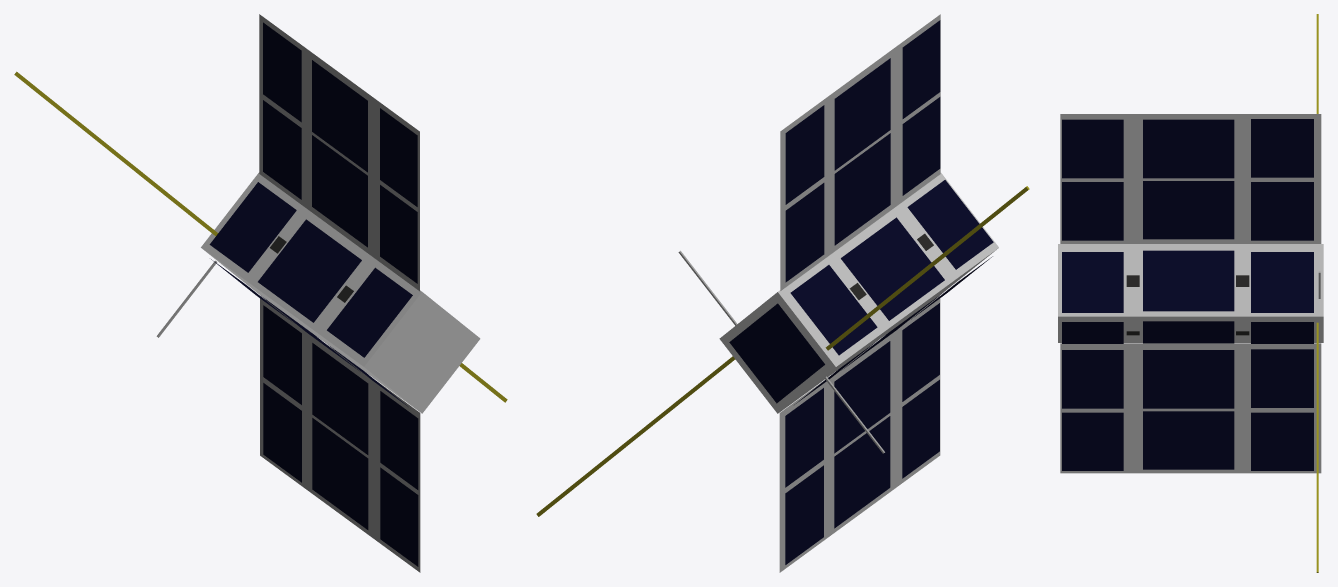
File: lemur1_low.gltf
3 views of the same model, side by side, from view 1: azimuth 30°, elevation 25°; view 2: azimuth 150°, elevation 25°; view 3: azimuth 270°, elevation 25° (orthographic). The views are drawn at different scales.
Parts seen in each view (by area): view 1: Cube, Plane.064, Plane.069, ReducedSolarCell.035, ReducedSolarCell.022, ReducedSolarCell.023, ReducedSolarCell.028, ReducedSolarCell.029, ReducedSolarCell.033, ReducedSolarCell.034, ReducedSolarCell.025, ReducedSolarCell.019 (+7 smaller); view 2: Cube, Plane.064, Plane.069, ReducedSolarCell.035, ReducedSolarCell.036, ReducedSolarCell.028, ReducedSolarCell.029, ReducedSolarCell.022, ReducedSolarCell.023, ReducedSolarCell.033, ReducedSolarCell.034, ReducedSolarCell.025 (+9 smaller); view 3: Plane.141, Plane.142, Cube, ReducedSolarCell.014, ReducedSolarCell.004, ReducedSolarCell.010, ReducedSolarCell.011, ReducedSolarCell.005, ReducedSolarCell.012, ReducedSolarCell.013, ReducedSolarCell.003, ReducedSolarCell (+10 smaller).
Part boxes in pixels (x1,y1,x2,y2): Cube: (201,172,480,413); Plane.064: (259,14,419,291); Plane.069: (260,296,420,572); ReducedSolarCell.035: (258,219,361,322); ReducedSolarCell.022: (312,418,368,529); ReducedSolarCell.023: (312,343,368,454); ReducedSolarCell.028: (312,135,367,247); ReducedSolarCell.029: (312,60,367,172); ReducedSolarCell.033: (209,182,296,272); ReducedSolarCell.034: (327,267,412,357); ReducedSolarCell.025: (263,22,301,122); ReducedSolarCell.019: (263,305,301,404); Cube: (719,173,998,413); Plane.064: (780,14,940,290); Plane.069: (779,296,940,572); ReducedSolarCell.035: (841,217,944,320); ReducedSolarCell.036: (729,303,824,403); ReducedSolarCell.028: (834,133,890,245); ReducedSolarCell.029: (834,58,890,170); ReducedSolarCell.022: (834,416,890,528); ReducedSolarCell.023: (834,341,890,453); ReducedSolarCell.033: (790,265,877,355); ReducedSolarCell.034: (907,180,993,269); ReducedSolarCell.025: (785,105,824,204); Plane.141: (1060,343,1321,473); Plane.142: (1060,114,1321,243); Cube: (1058,244,1323,342); ReducedSolarCell.014: (1143,250,1234,311); ReducedSolarCell.004: (1143,119,1234,178); ReducedSolarCell.010: (1143,350,1234,408); ReducedSolarCell.011: (1143,411,1234,469); ReducedSolarCell.005: (1143,181,1234,239); ReducedSolarCell.012: (1251,252,1313,312); ReducedSolarCell.013: (1062,252,1123,312); ReducedSolarCell.003: (1062,119,1123,178); ReducedSolarCell: (1251,119,1313,177).
Size of the model in its own units: 11.94 by 10.41 by 6.87.
